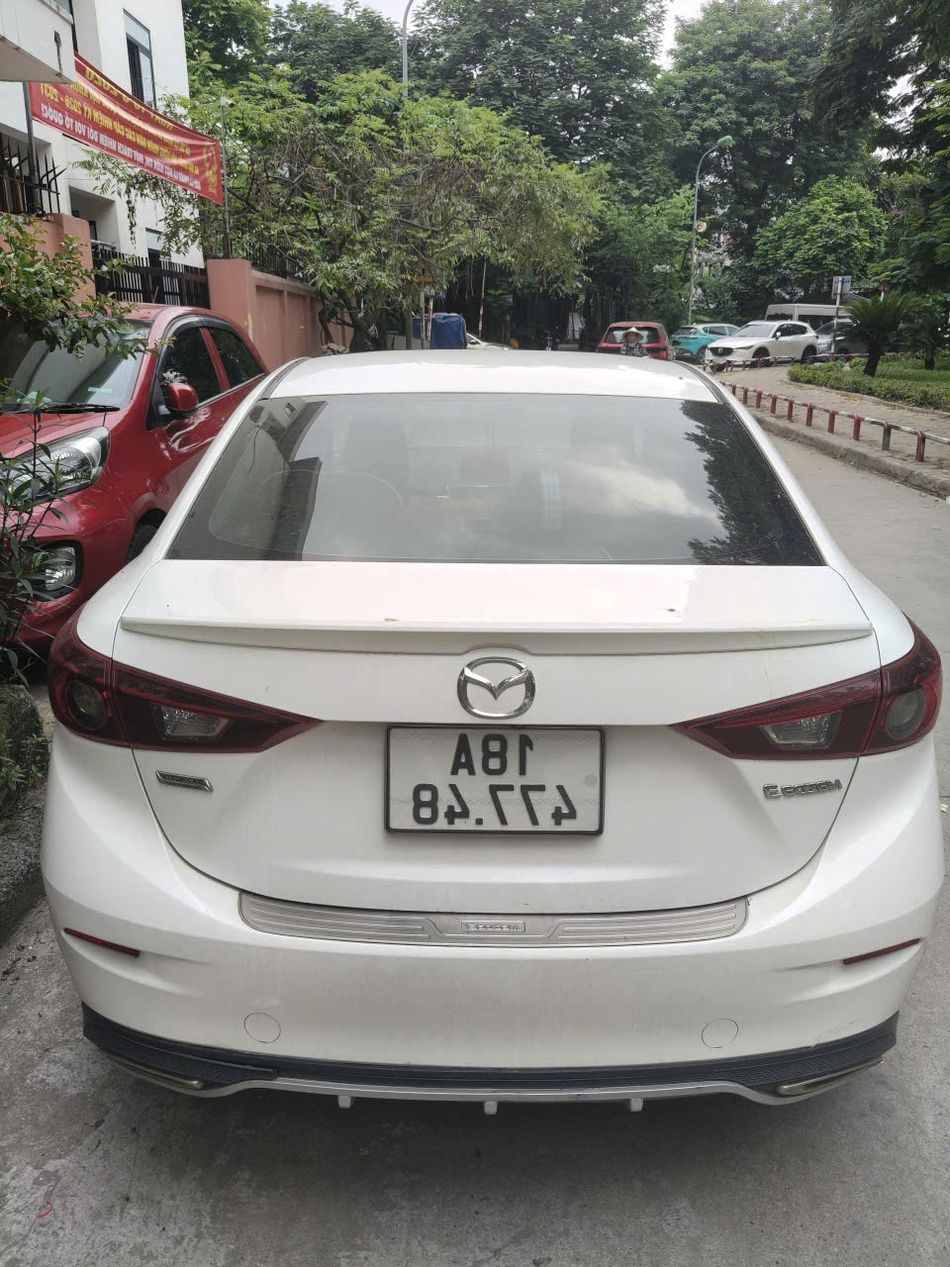plate: (634, 899, 748, 941)
